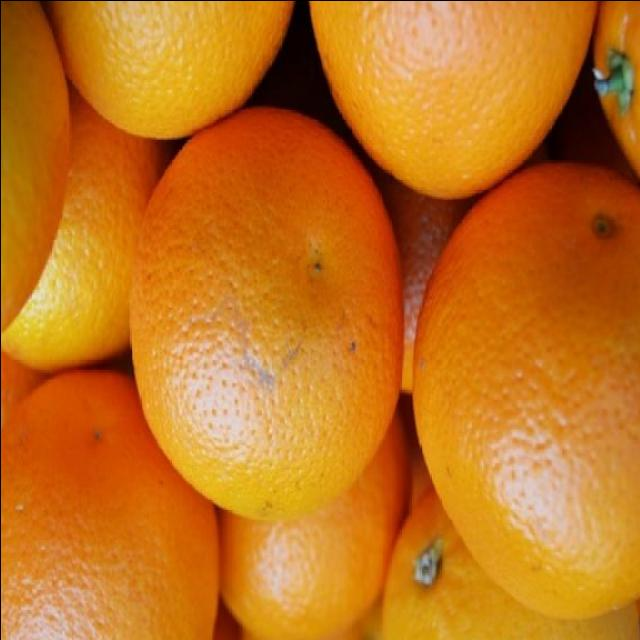orange: (114, 111, 418, 522), (404, 168, 640, 616), (172, 327, 423, 640), (287, 0, 601, 215), (0, 366, 213, 640)
